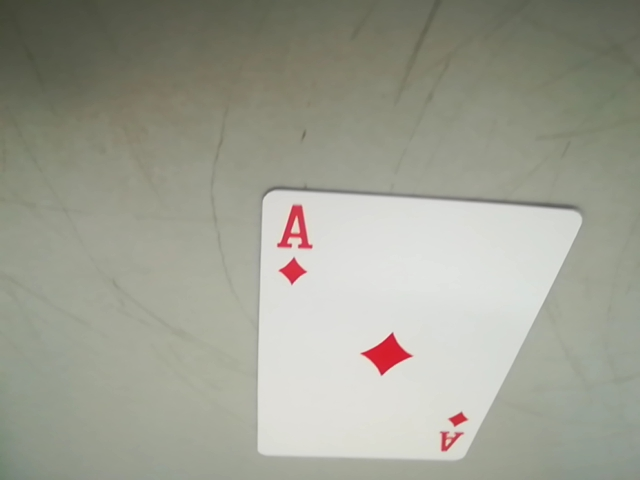fk a: (267, 193, 313, 290), (433, 403, 475, 461)
